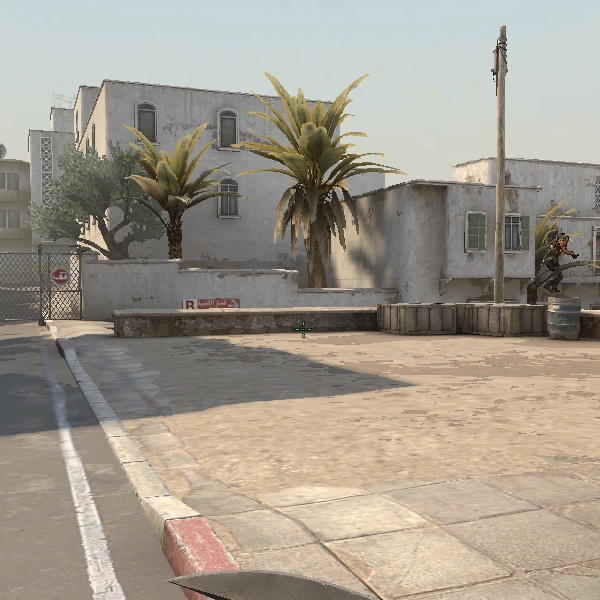t_body: (543, 224, 578, 311)
t_head: (558, 228, 574, 248)
